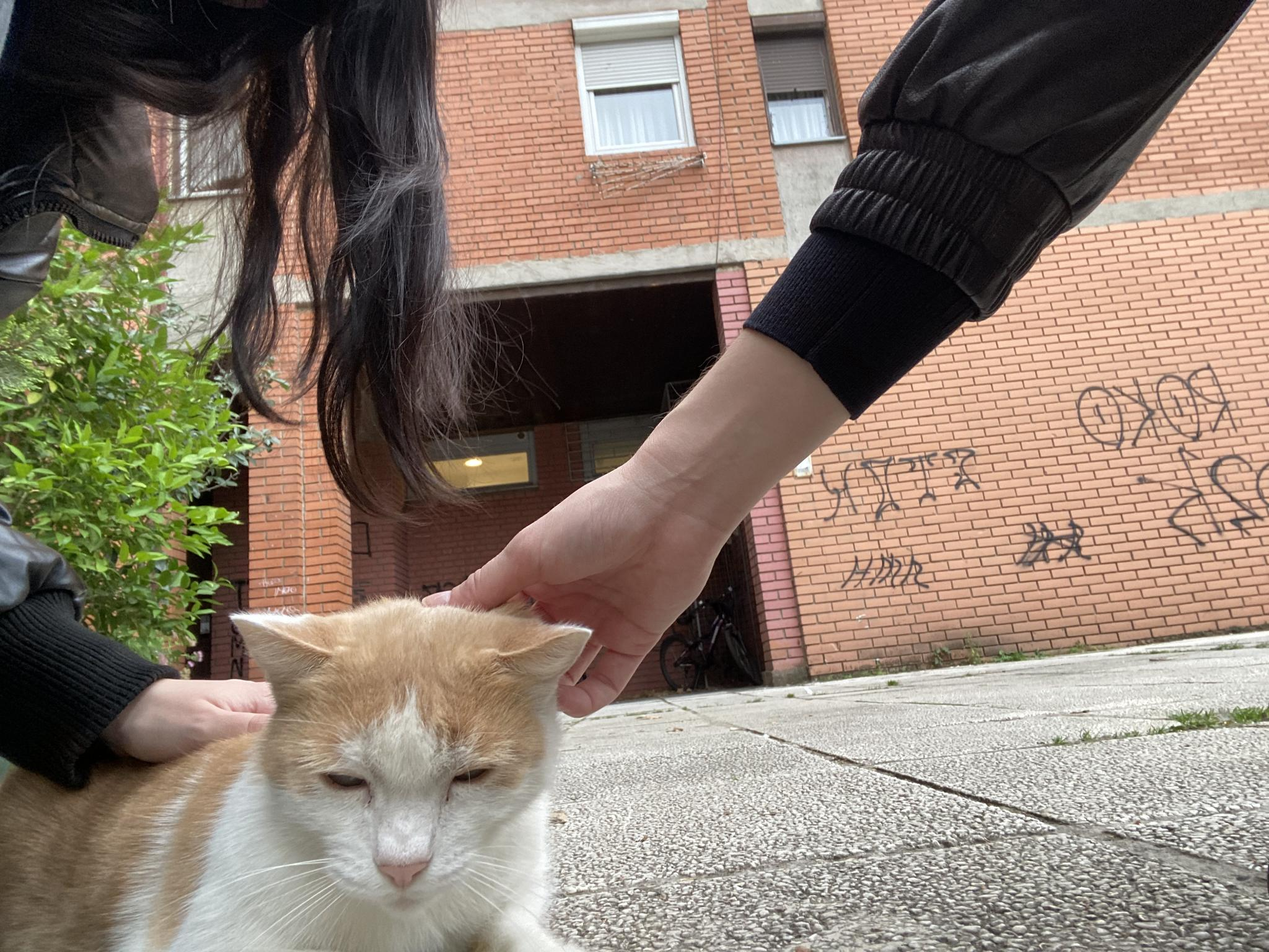macka: (0, 597, 593, 952)
